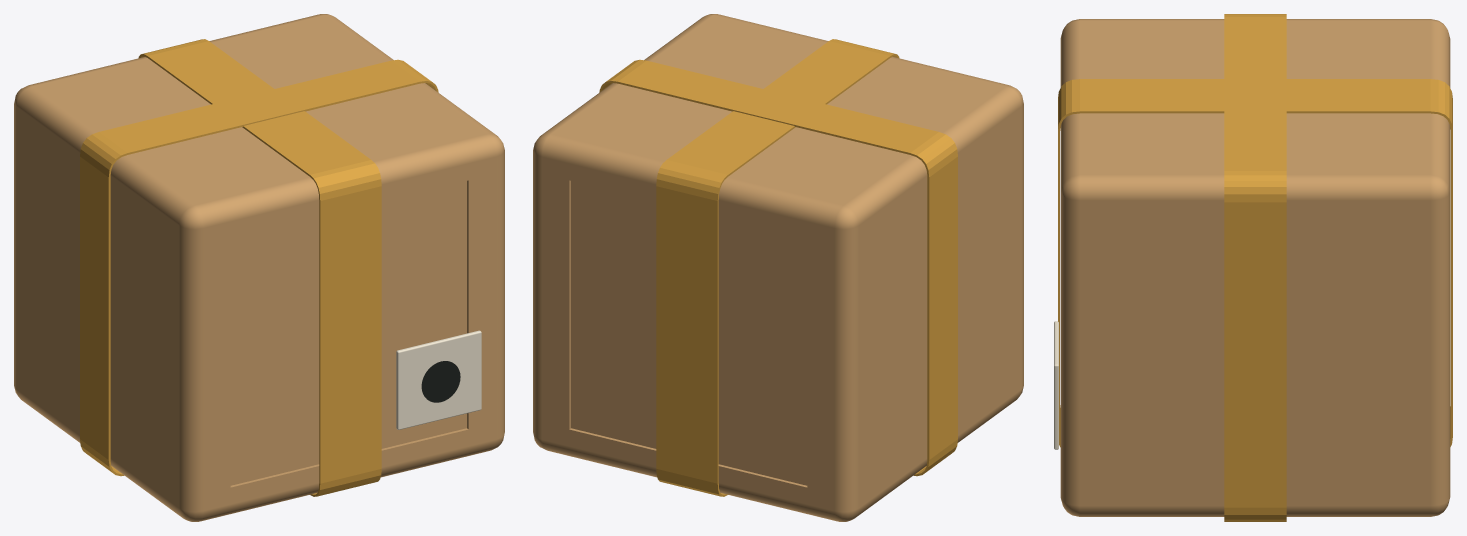
Rendered from play-parcel-small-yellow.glb.
3 renders of one model, left to right at view 1: azimuth 30°, elevation 25°; view 2: azimuth 150°, elevation 25°; view 3: azimuth 270°, elevation 25°, orthographic. The views are drawn at different scales.
Parts seen in each view (by area): view 1: Parcel_Carton, Parcel_Tape_Continuous_Front_Back, Parcel_Tape_Continuous_Left_Right, Parcel_Paper_Label, Parcel_Label_Circle; view 2: Parcel_Carton, Parcel_Tape_Continuous_Front_Back, Parcel_Tape_Continuous_Left_Right; view 3: Parcel_Carton, Parcel_Tape_Continuous_Left_Right, Parcel_Tape_Continuous_Front_Back, Parcel_Paper_Label.
Part boxes in pixels (x1,y1,x2,y2): Parcel_Carton: [14, 14, 504, 521]; Parcel_Tape_Continuous_Front_Back: [138, 39, 381, 496]; Parcel_Tape_Continuous_Left_Right: [80, 59, 438, 476]; Parcel_Paper_Label: [396, 330, 481, 429]; Parcel_Label_Circle: [421, 361, 460, 402]; Parcel_Carton: [533, 14, 1023, 521]; Parcel_Tape_Continuous_Front_Back: [656, 39, 899, 496]; Parcel_Tape_Continuous_Left_Right: [599, 59, 957, 476]; Parcel_Carton: [1060, 19, 1450, 516]; Parcel_Tape_Continuous_Left_Right: [1224, 14, 1286, 521]; Parcel_Tape_Continuous_Front_Back: [1058, 79, 1452, 447]; Parcel_Paper_Label: [1054, 321, 1058, 449].
Bounding box in the file's own units: 0.148 × 0.138 × 0.1441.
